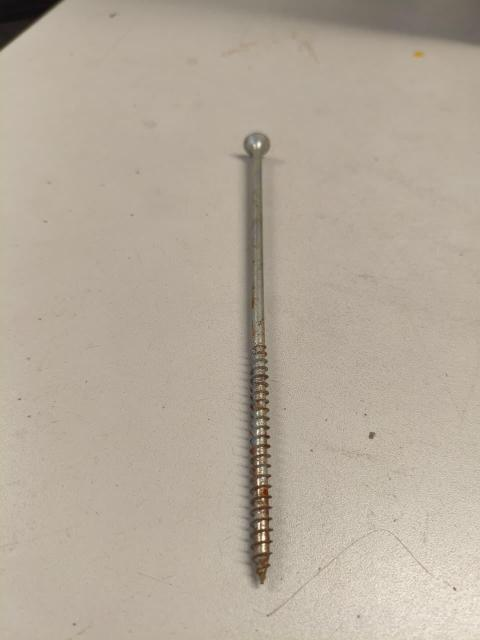Metal: (244, 129, 272, 588)
